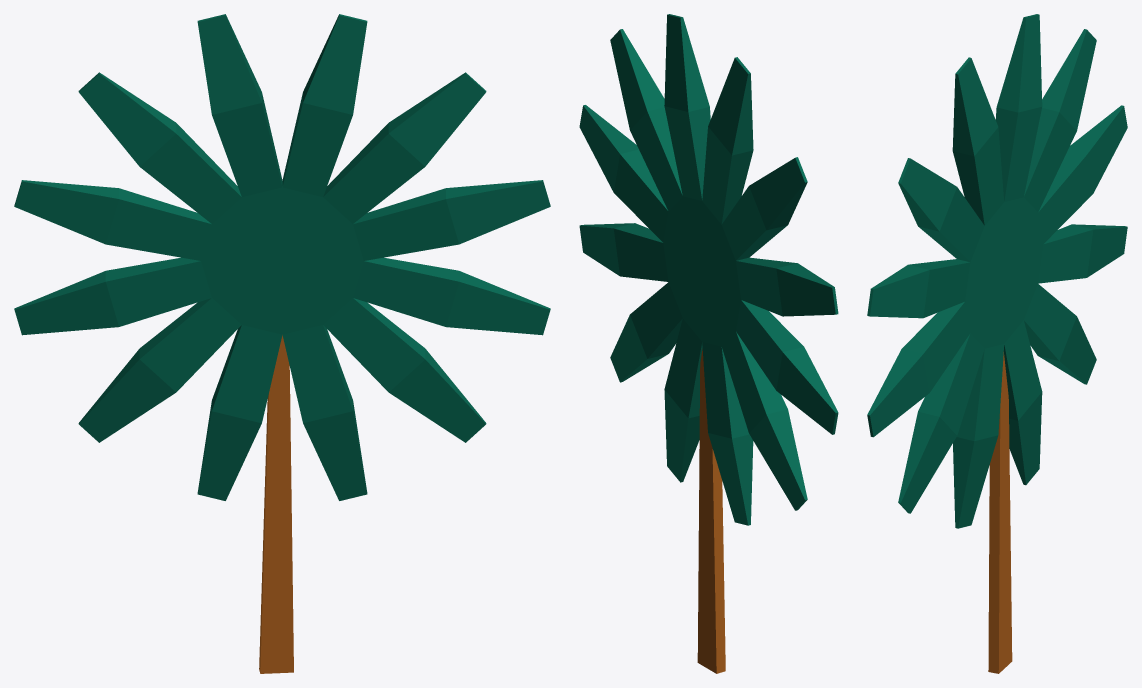
The model's file is ArbreSide.FBX.
3 views of the same model, side by side, from view 1: azimuth 30°, elevation 25°; view 2: azimuth 150°, elevation 25°; view 3: azimuth 270°, elevation 25° (orthographic). The views are drawn at different scales.
Parts seen in each view (by area): view 1: Cylinder098, Box4186; view 2: Cylinder098, Box4186; view 3: Cylinder098, Box4186.
Boxes of the visible parts, x1,y1,x2,y2 form: Cylinder098: (14, 14, 550, 500); Box4186: (259, 335, 293, 673); Cylinder098: (579, 14, 838, 525); Box4186: (697, 349, 725, 673); Cylinder098: (867, 14, 1127, 528); Box4186: (988, 352, 1012, 673).
Bounding box in the file's own units: 158 × 245 × 91.83.
